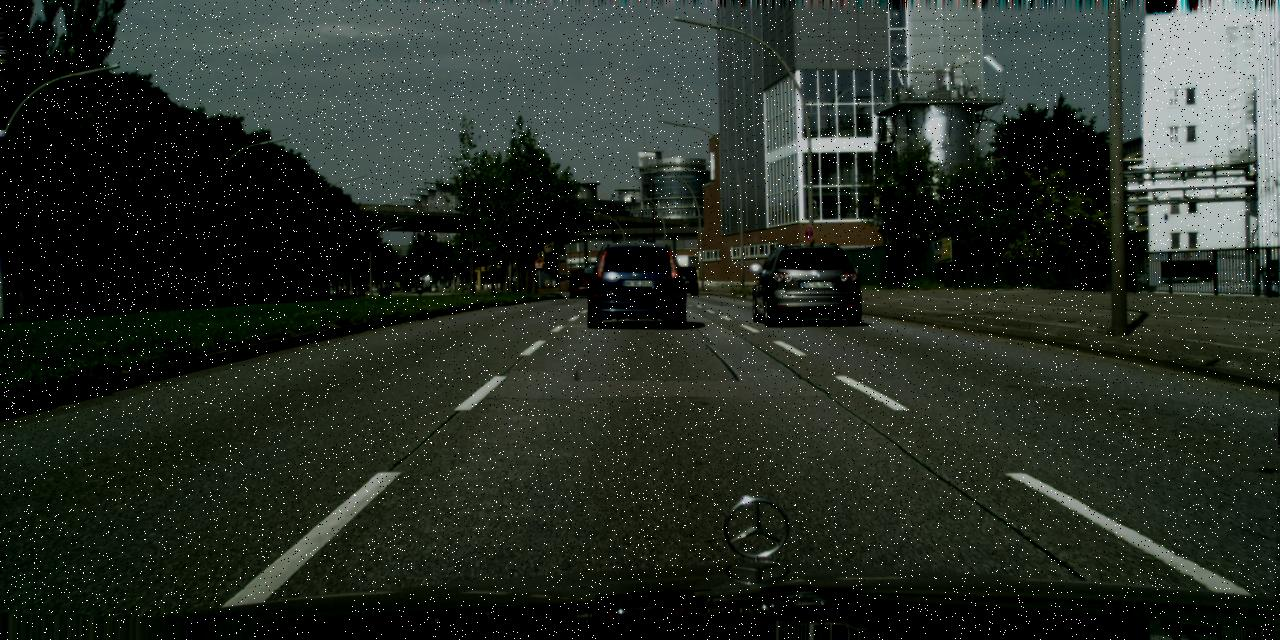ped: (417, 283, 420, 292)
